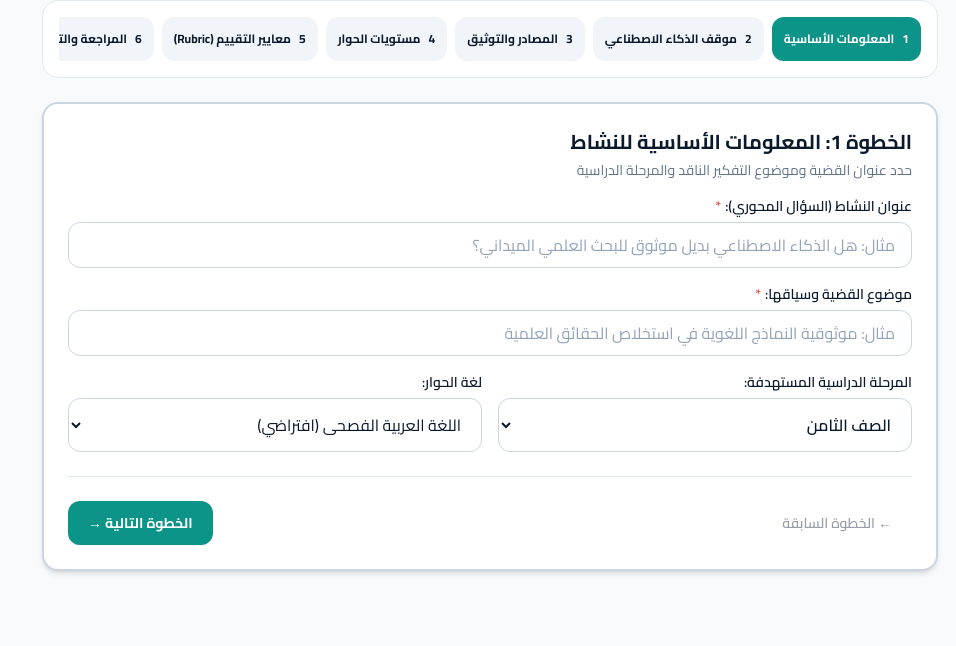
Scenario: ActivityWizard Draft vs Activation UX & Accessibility › 5. First Invalid Step & Field Focus on Validation Failure: navigates to earliest step and focuses field while keeping entered values
This screenshot has width=956, height=646.
# Fill only title, leave topic empty
Type "عنوان تجريبي" into the field labelled "عنوان النشاط (السؤال المحوري):*". click: (490, 245)
box: [68, 222, 912, 268]
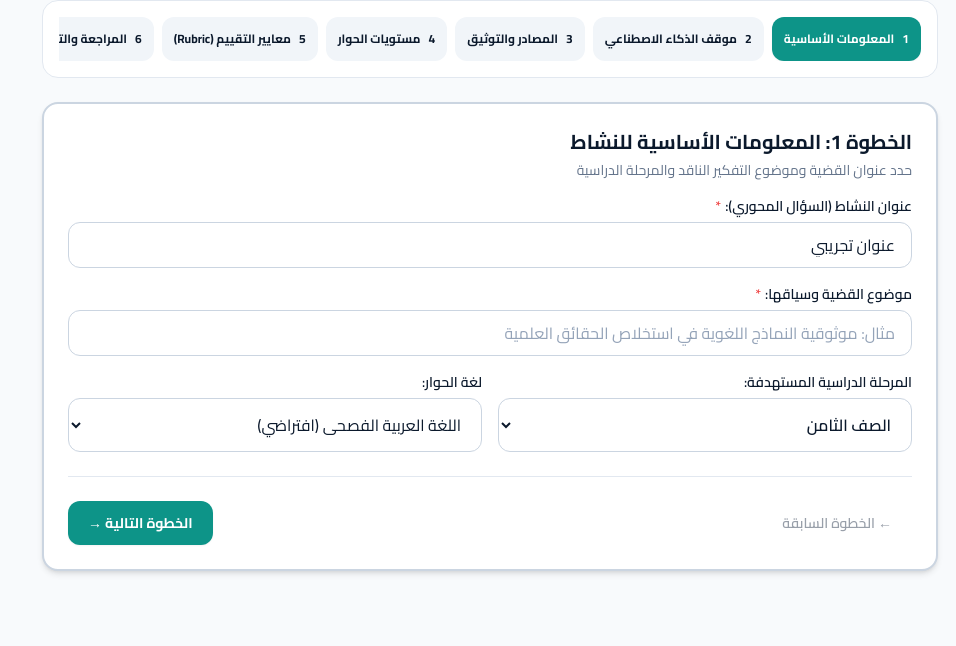
# Jump to Step 6 and attempt activation
Click the button "6 المراجعة والتفعيل". click: click(85, 39)
box: [17, 17, 154, 61]
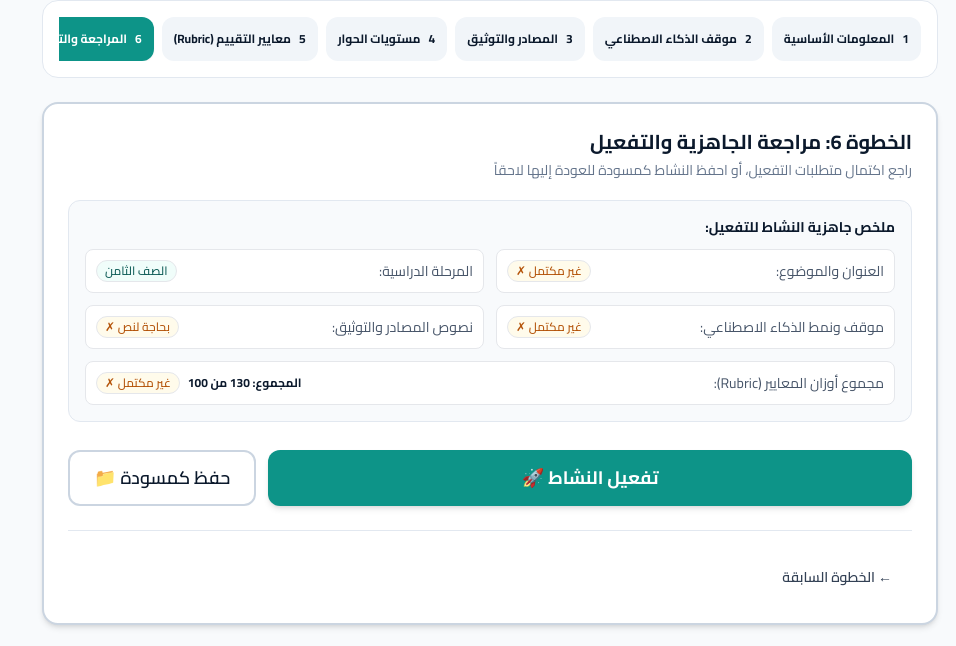
Click the button "تفعيل النشاط 🚀". click: click(590, 478)
box: [268, 450, 912, 506]
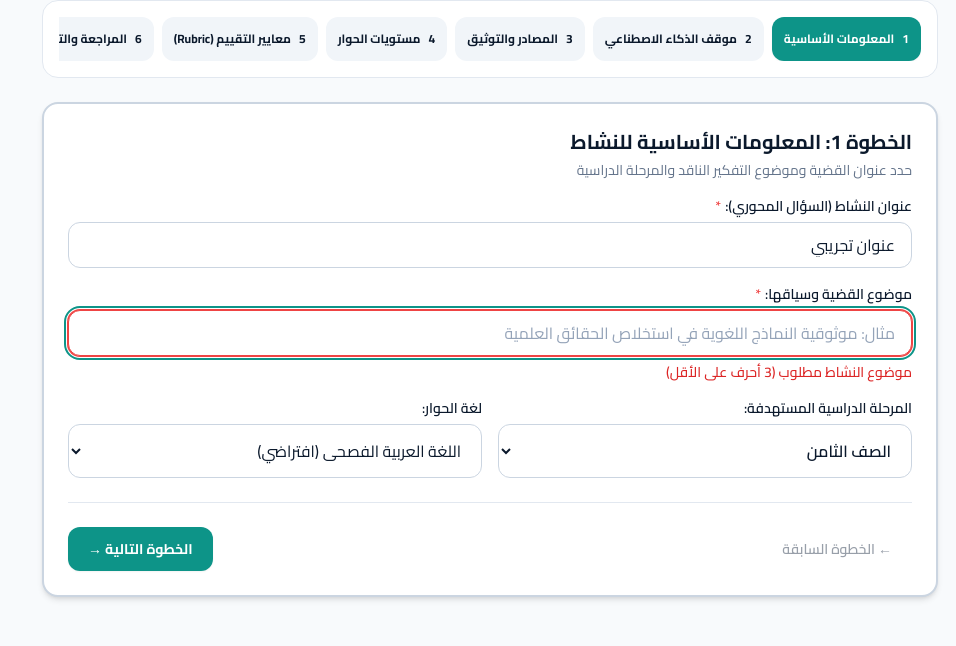
Expected: the heading "الخطوة 1: المعلومات الأساسية للنشاط" is shown, [570, 128, 912, 156]
Expected: the field labelled "عنوان النشاط (السؤال المحوري):*" holds "عنوان تجريبي", [68, 222, 912, 268]
